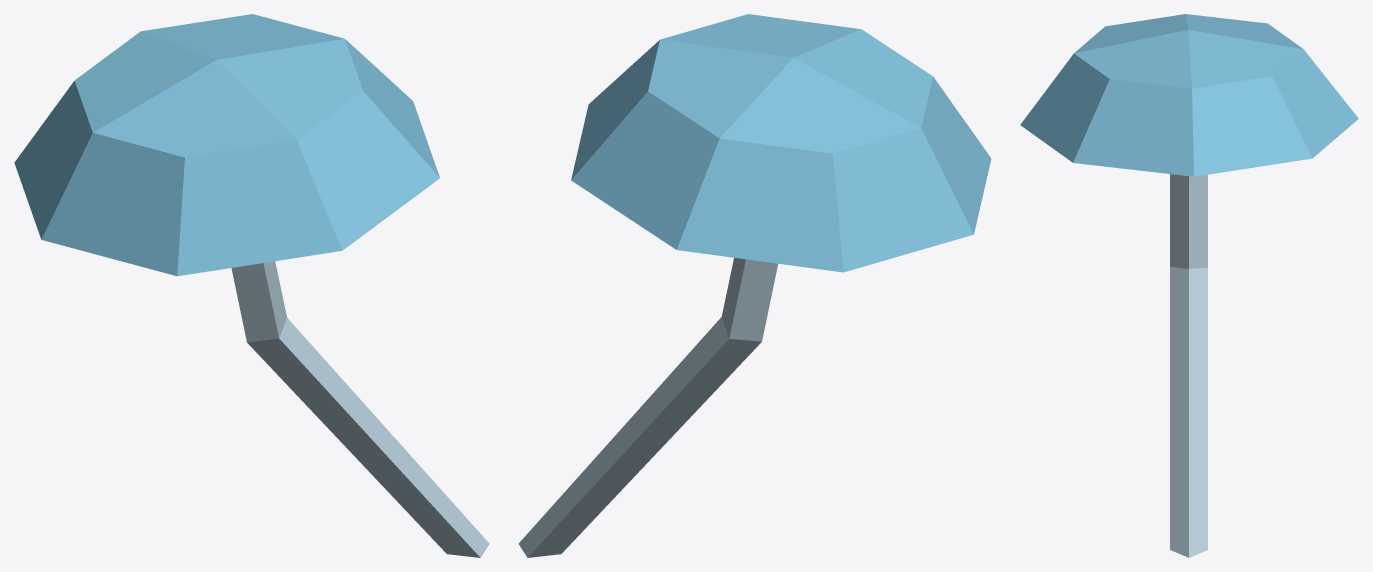
The model's file is Mushroom_a_01.fbx.
3 views of the same model, side by side, from view 1: azimuth 30°, elevation 25°; view 2: azimuth 150°, elevation 25°; view 3: azimuth 270°, elevation 25° (orthographic). The views are drawn at different scales.
Visible parts, largest first — view 1: Mushroom_a_01; view 2: Mushroom_a_01; view 3: Mushroom_a_01.
Boxes of the visible parts, left/top/right/bottom form: Mushroom_a_01: left=14, top=14, right=489, bottom=557; Mushroom_a_01: left=518, top=14, right=991, bottom=557; Mushroom_a_01: left=1020, top=14, right=1358, bottom=557.
Bounding box in the file's own units: 0.3052 × 0.3561 × 0.2572.
